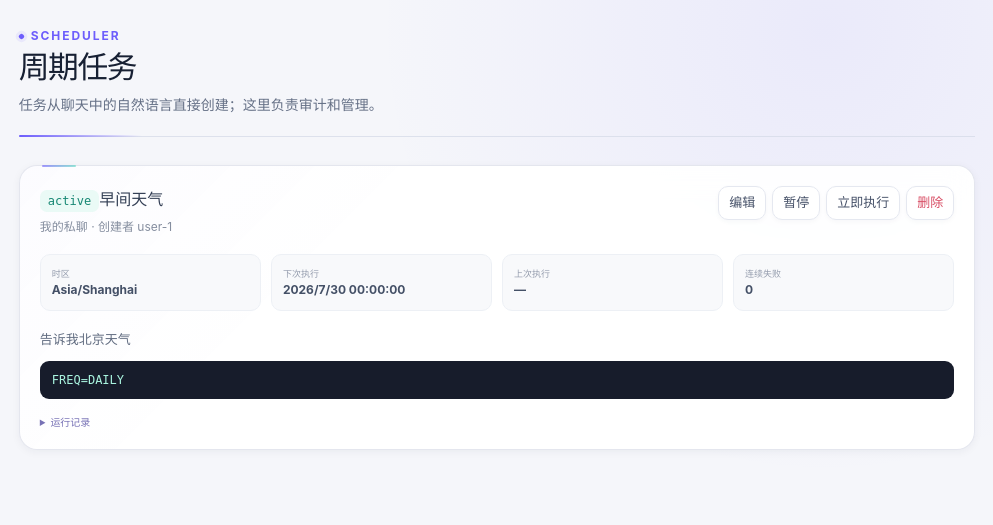
Test: SchedulesView › 操作失败时保留任务并显示错误
Click the button "暂停" at (796, 203), box [772, 186, 820, 220]
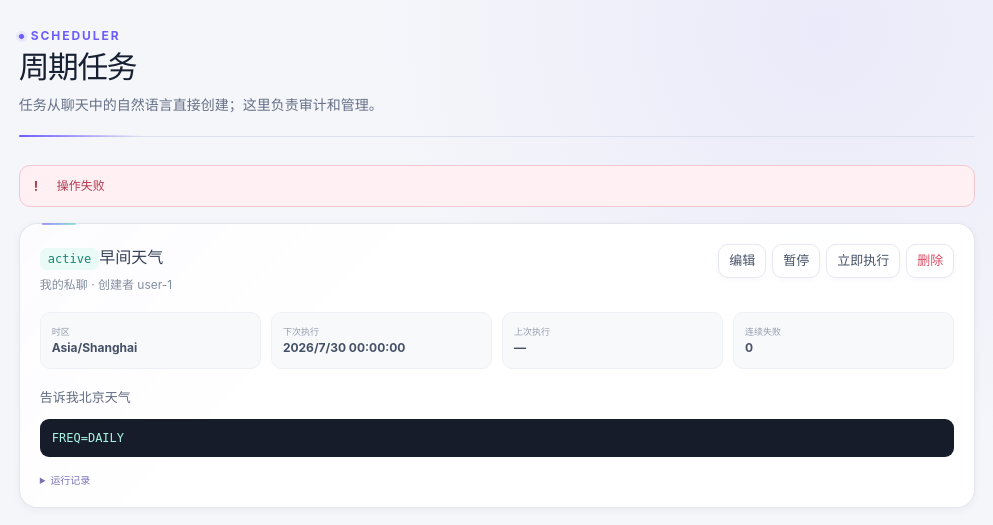
Expected: the text "早间天气" is shown, [99, 247, 163, 267]
Result: the text with class "error" reads "操作失败" at [57, 178, 105, 193]
